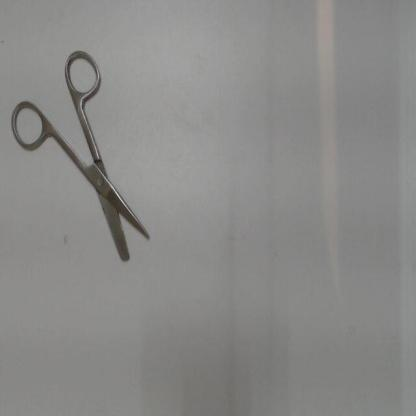Dressing Scissors: (6, 37, 161, 275)
